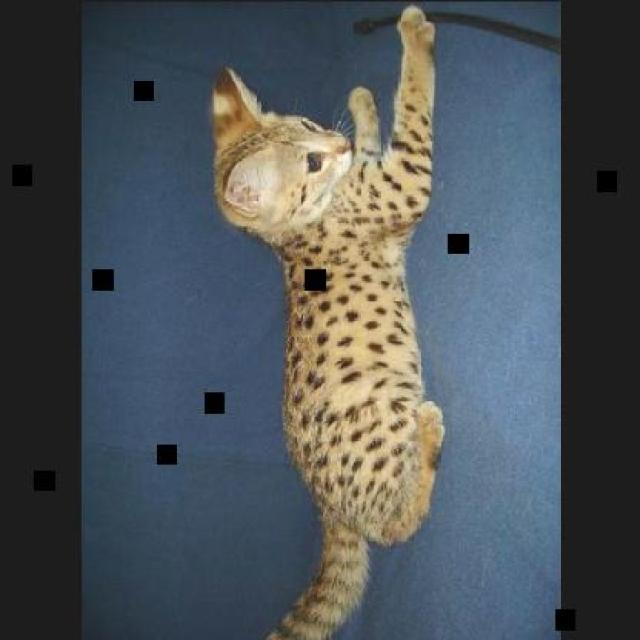unauthorized: (208, 3, 446, 639)
